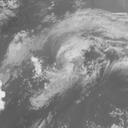cyclone: (29, 35, 98, 109)
